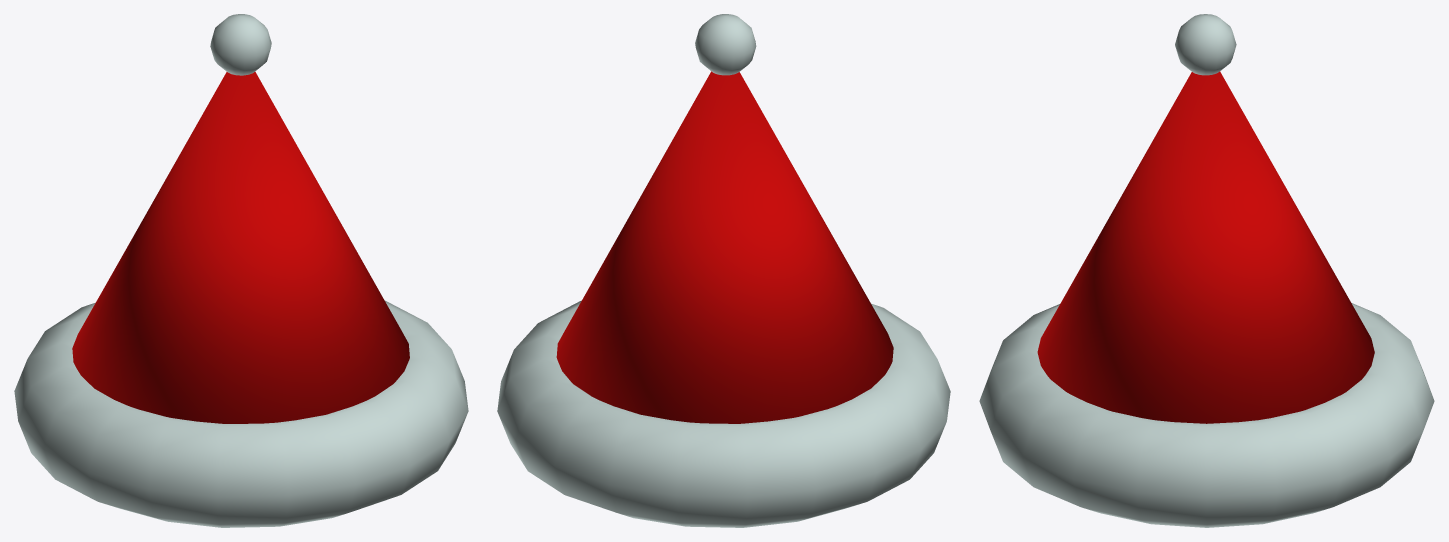
Rendered from hat.fbx.
3 views of the same model, side by side, from view 1: azimuth 30°, elevation 25°; view 2: azimuth 150°, elevation 25°; view 3: azimuth 270°, elevation 25° (orthographic).
Visible parts, largest first — view 1: Cone, BottomHat, TopHat; view 2: Cone, BottomHat, TopHat; view 3: Cone, BottomHat, TopHat.
Boxes of the visible parts, bbox=[...] form: Cone: bbox=[72, 72, 409, 423]; BottomHat: bbox=[14, 300, 468, 527]; TopHat: bbox=[210, 14, 271, 75]; Cone: bbox=[556, 71, 893, 423]; BottomHat: bbox=[497, 300, 950, 527]; TopHat: bbox=[695, 14, 756, 75]; Cone: bbox=[1037, 71, 1374, 423]; BottomHat: bbox=[979, 303, 1434, 527]; TopHat: bbox=[1175, 14, 1236, 75].
Bounding box in the file's own units: 100 × 106 × 100.
